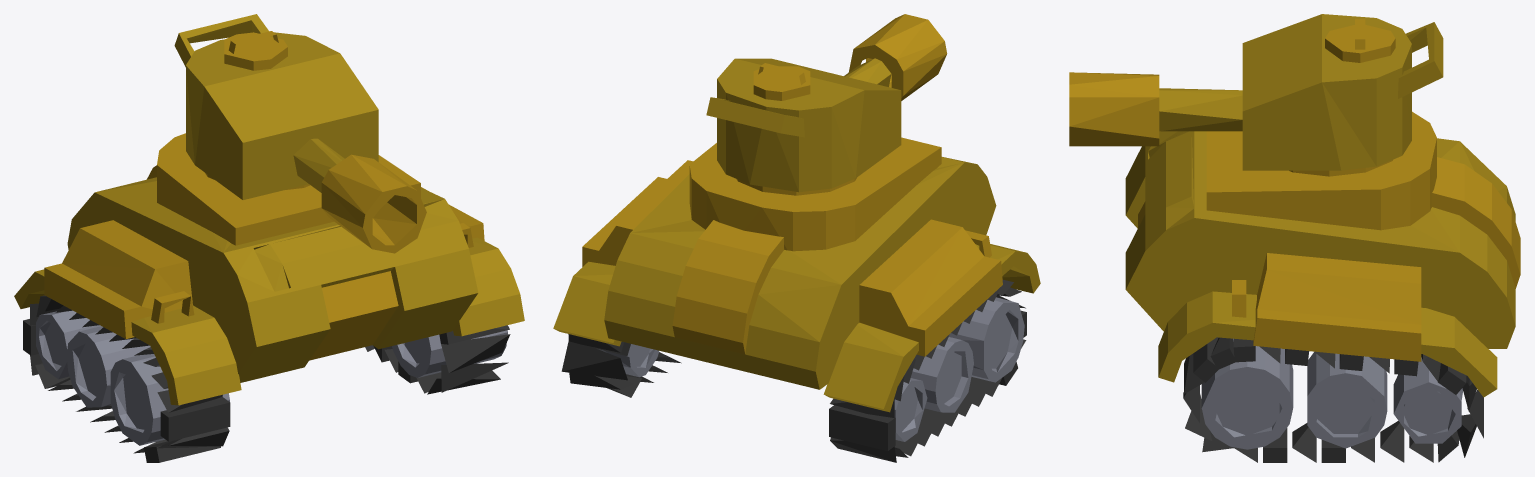
Rendered from tank_lod.glb.
3 renders of one model, left to right at view 1: azimuth 30°, elevation 25°; view 2: azimuth 150°, elevation 25°; view 3: azimuth 270°, elevation 25°, orthographic. The views are drawn at different scales.
Parts seen in each view (by area): view 1: Tank; view 2: Tank; view 3: Tank.
Part boxes in pixels (<box>): Tank: <box>14,14,524,462</box>; Tank: <box>553,14,1040,462</box>; Tank: <box>1069,14,1520,462</box>.
Bounding box in the file's own units: 2.37 × 2.13 × 2.5.
